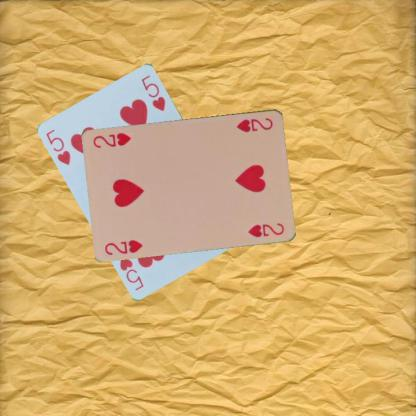2h: (102, 237, 144, 256), (234, 115, 274, 133)
5h: (44, 127, 72, 166)
